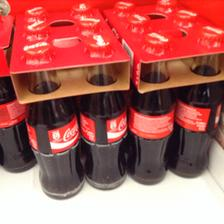Soda: (22, 41, 82, 199), (78, 38, 128, 190), (125, 32, 174, 184), (174, 26, 222, 178)
